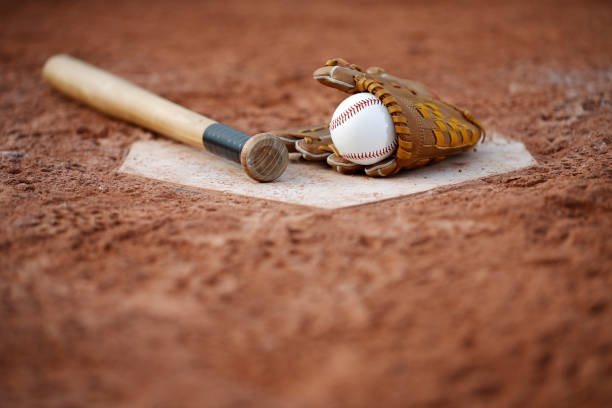bita: (40, 53, 287, 173)
